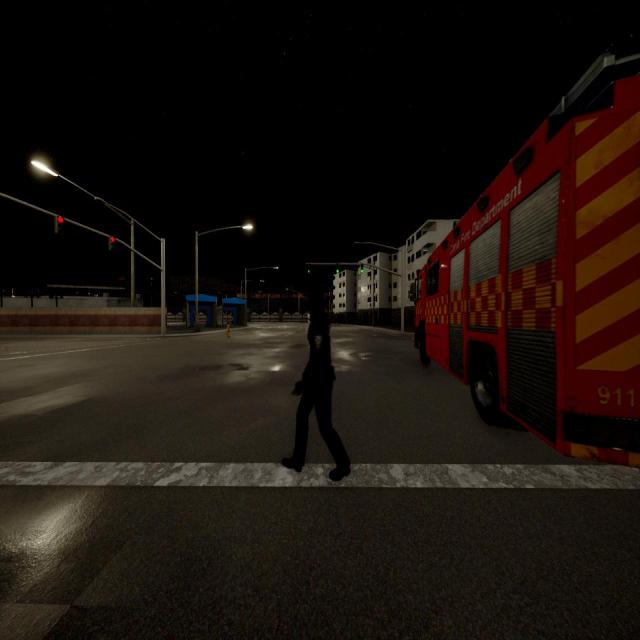Pedestrian: (282, 289, 350, 481), (226, 322, 230, 338)
Vehicle: (415, 53, 639, 467)
traffic_light: (55, 217, 63, 233), (109, 237, 115, 249), (336, 264, 339, 272), (308, 264, 310, 273), (361, 264, 363, 273)
